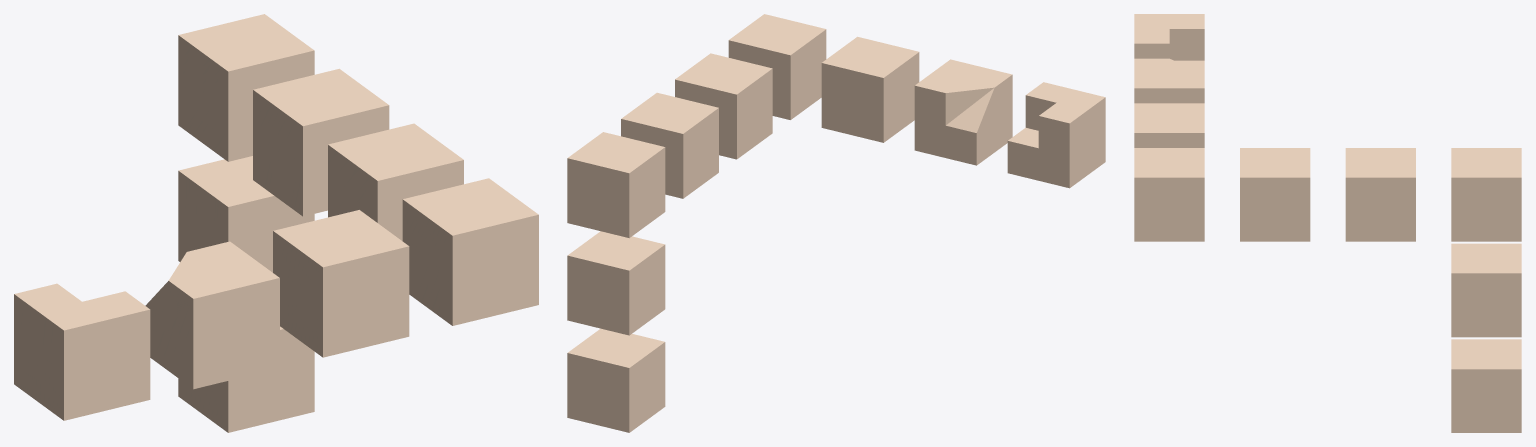
File: Abstract_Modular_Penrose_Triangle_Beige_01.fbx
The picture shows the model from 3 angles, left to right: view 1: azimuth 30°, elevation 25°; view 2: azimuth 150°, elevation 25°; view 3: azimuth 270°, elevation 25°; orthographic projection. The views are drawn at different scales.
Visible parts, largest first — view 1: Abstract_Modular_Penrose_Triangle_Beige_01; view 2: Abstract_Modular_Penrose_Triangle_Beige_01; view 3: Abstract_Modular_Penrose_Triangle_Beige_01.
Boxes of the visible parts, x1,y1,x2,y2 form: Abstract_Modular_Penrose_Triangle_Beige_01: [14, 14, 538, 432]; Abstract_Modular_Penrose_Triangle_Beige_01: [567, 14, 1105, 432]; Abstract_Modular_Penrose_Triangle_Beige_01: [1134, 14, 1521, 432].
Bounding box in the file's own units: 16500 × 12000 × 16500.
